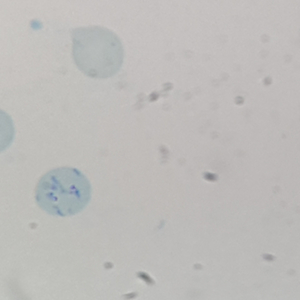aggregate reticulocyte: (33, 165, 93, 218)
punctate reticulocyte: (68, 23, 126, 80)
